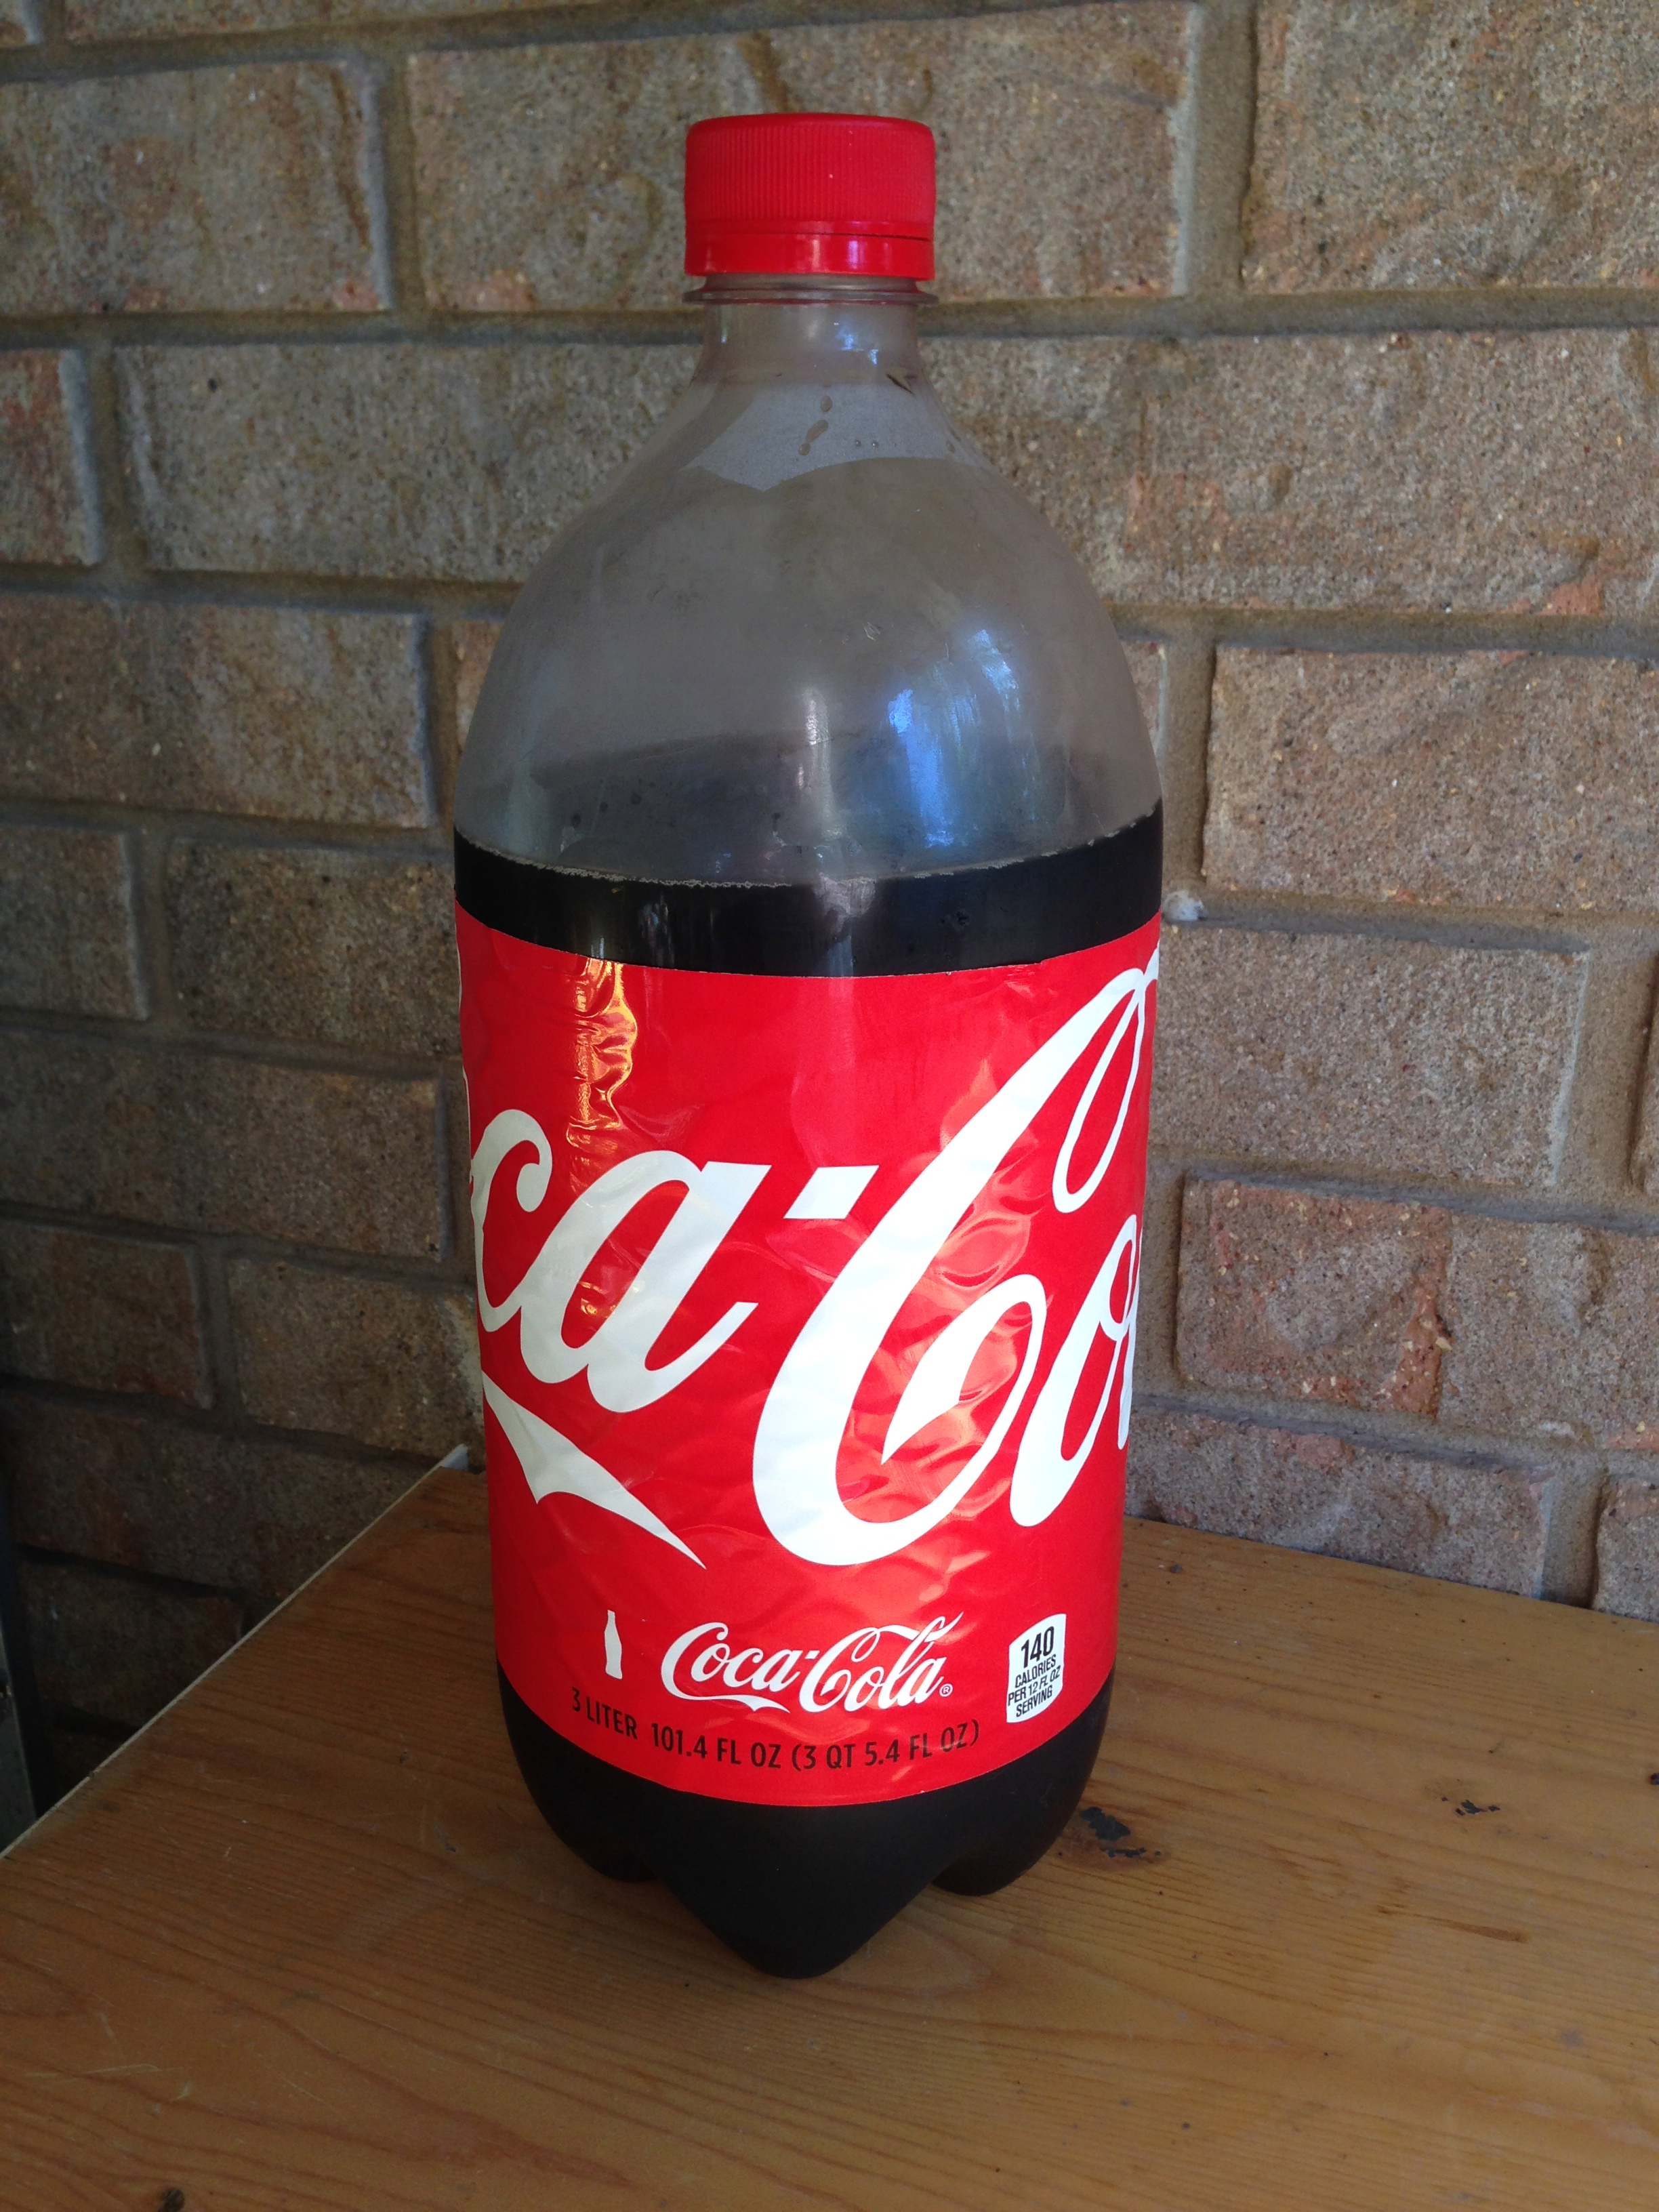Rec_Plastic: (422, 82, 1183, 1912)
